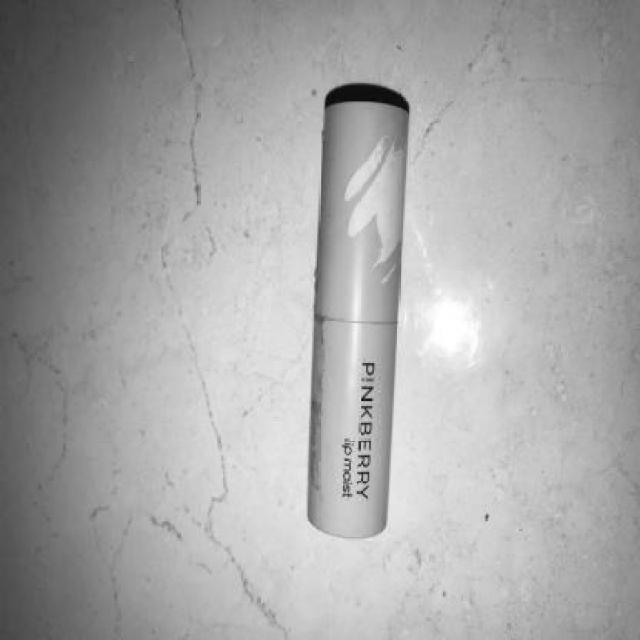lipstick: (257, 51, 455, 578)
